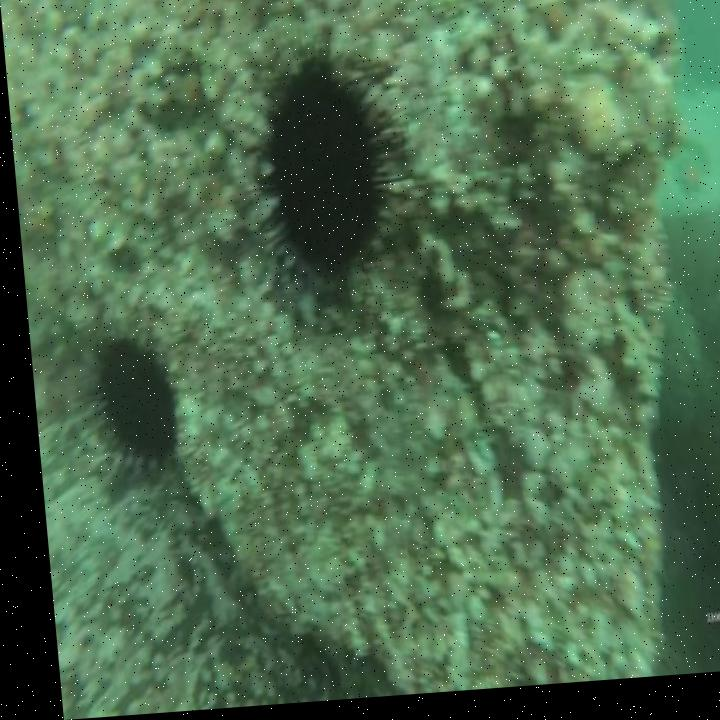echinus: (249, 52, 386, 297), (87, 328, 174, 478)
